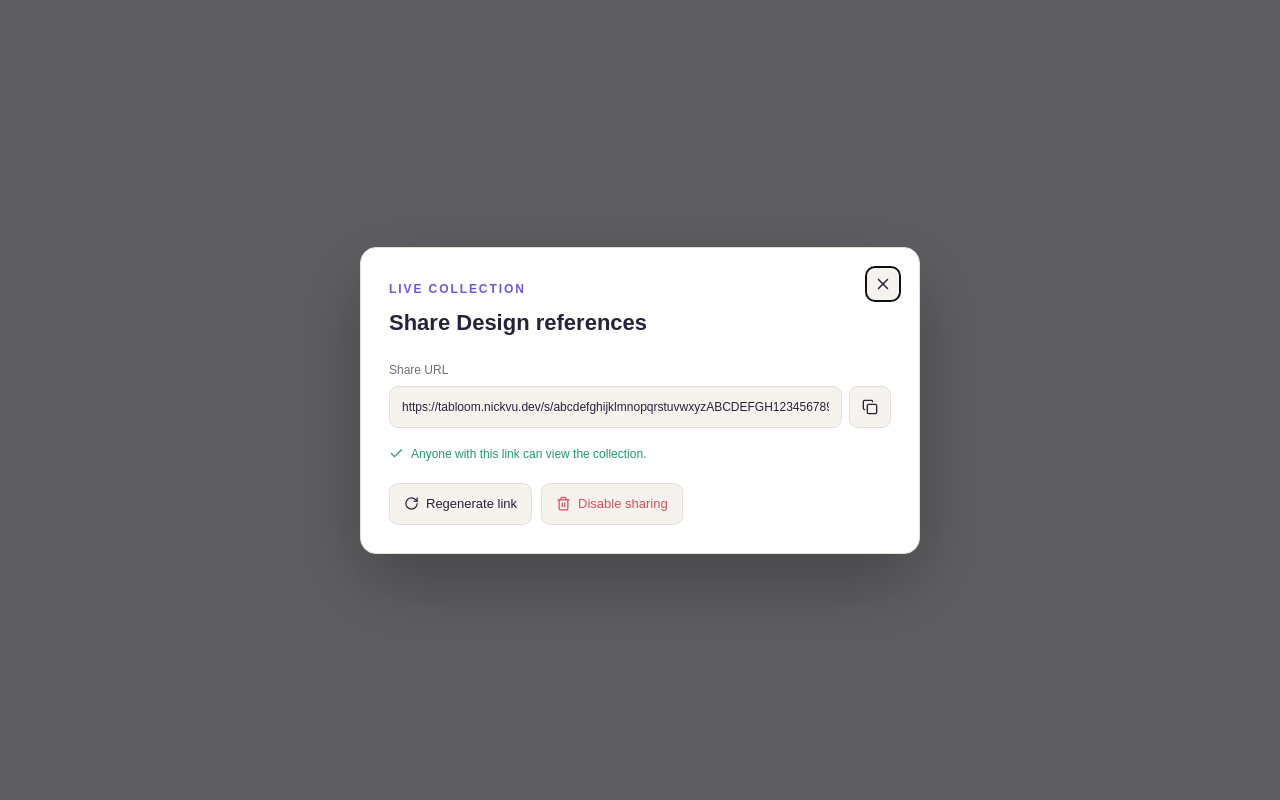
Test case: CollectionShareDialog › requires confirmation before disabling the public page
This screenshot has width=1280, height=800.
Click the button "Disable sharing" at (612, 504), box [541,482,683,524]
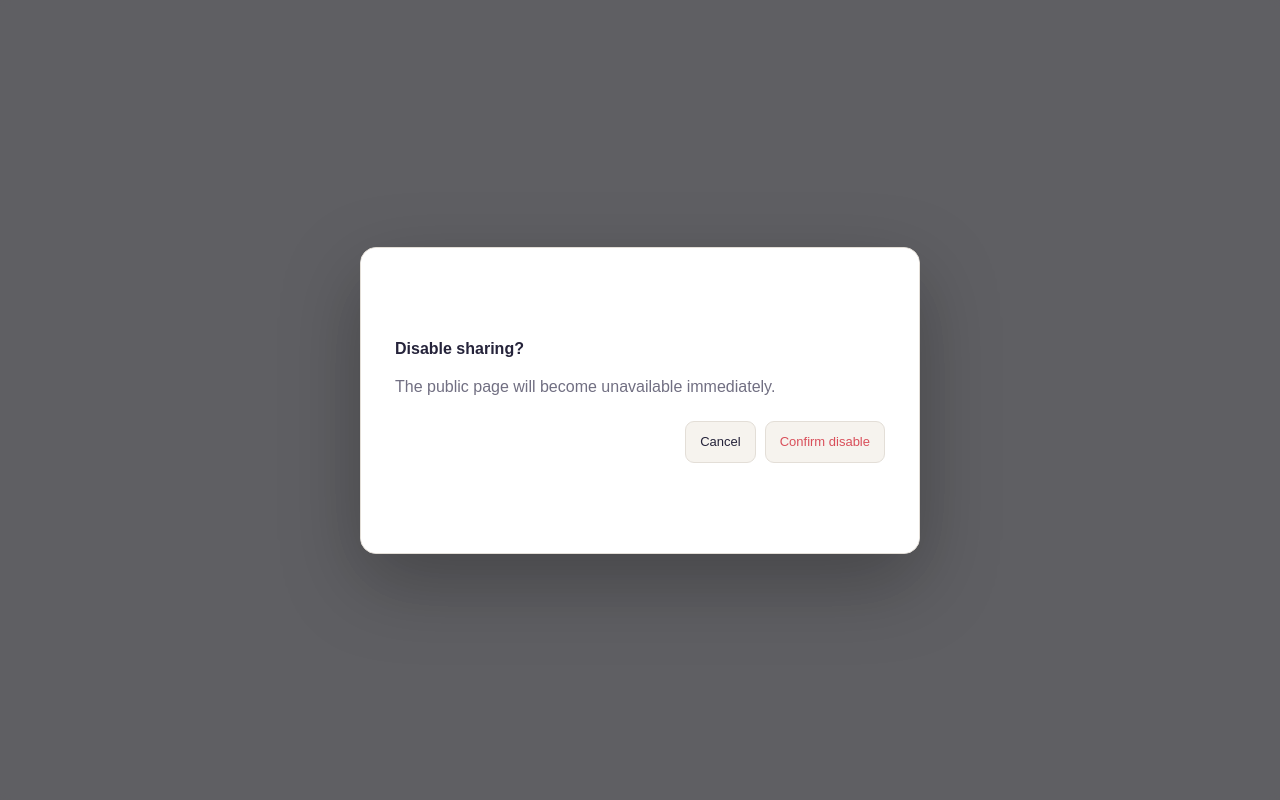
Check: the text "The public page will become unavailable immediately." is shown, box [395,378,775,395]
Click the button "Confirm disable" at (825, 442), box [765,421,885,463]
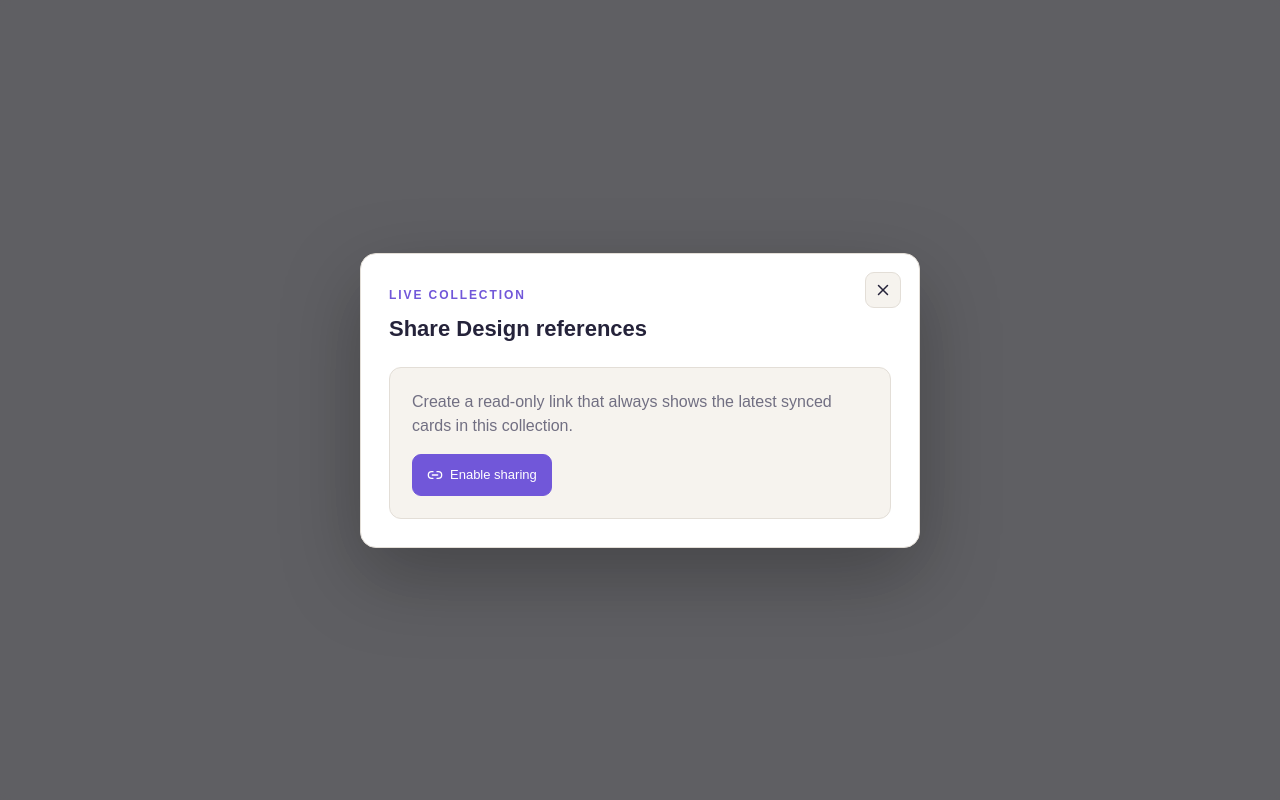
Check: the button "Enable sharing" is shown, box [412,454,552,496]
